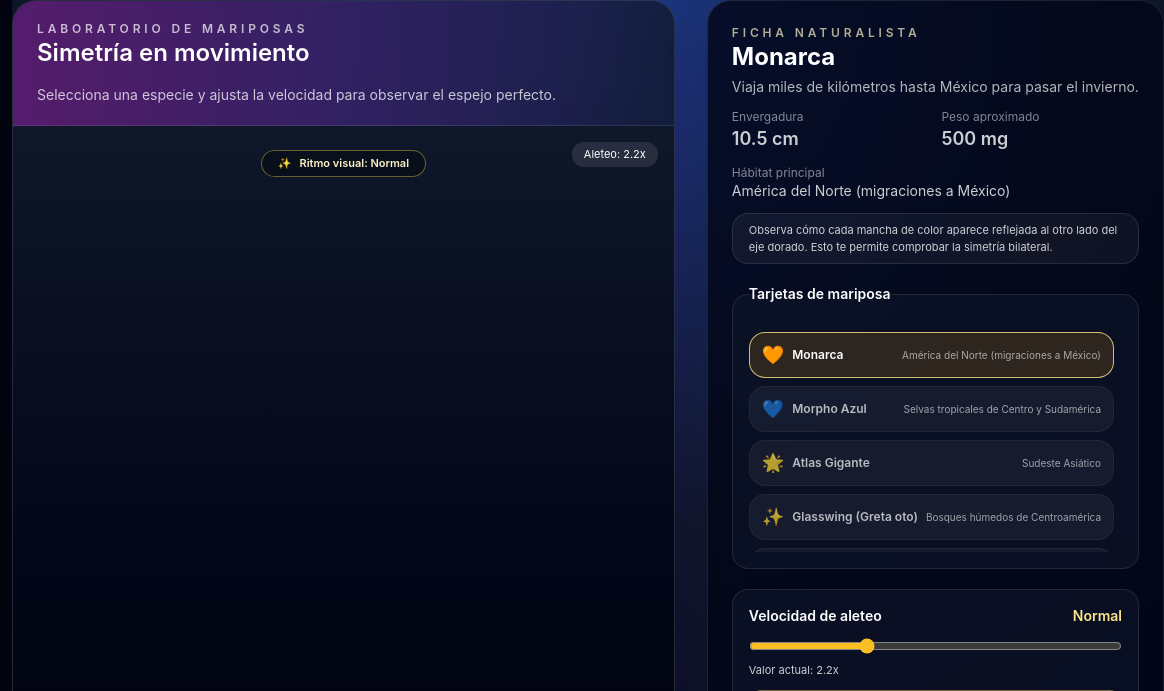
Test: ButterfliesPage › actualiza el texto del aleteo cuando se mueve el control deslizante
Set the slider to "4" at [984, 646], box [749, 638, 1122, 654]
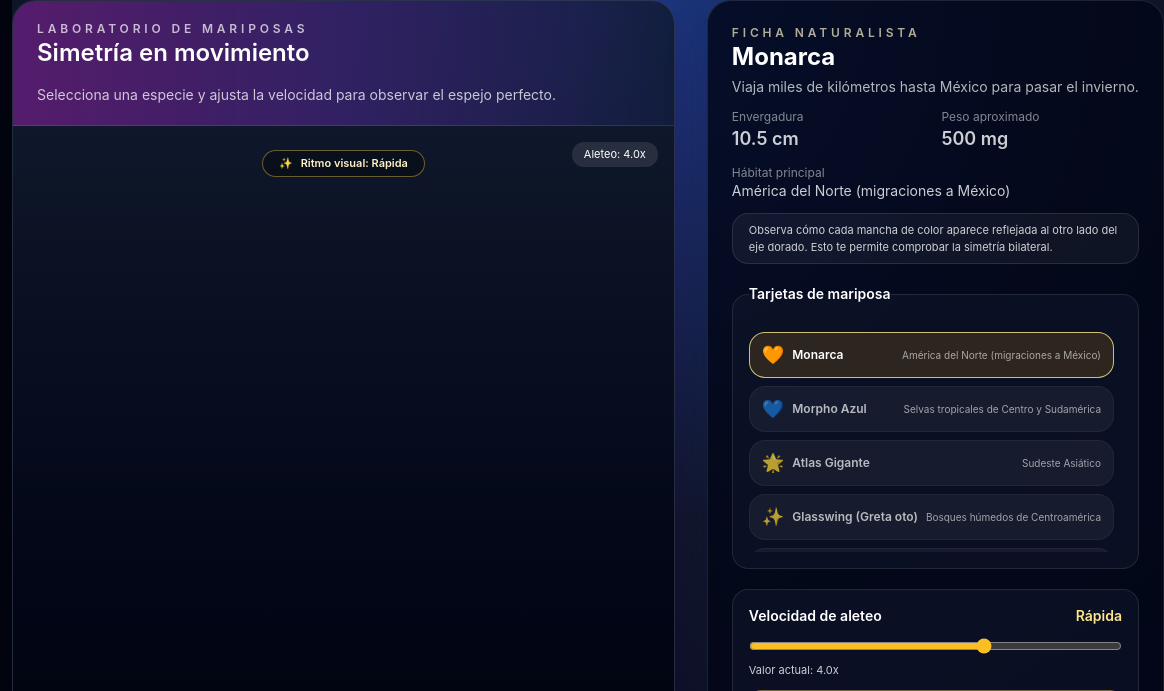
Result: the text "Aleteo: 4.0x" is shown at [572, 142, 658, 166]
Result: the text "✨ Ritmo visual: Rápida" is shown at [262, 150, 425, 176]
